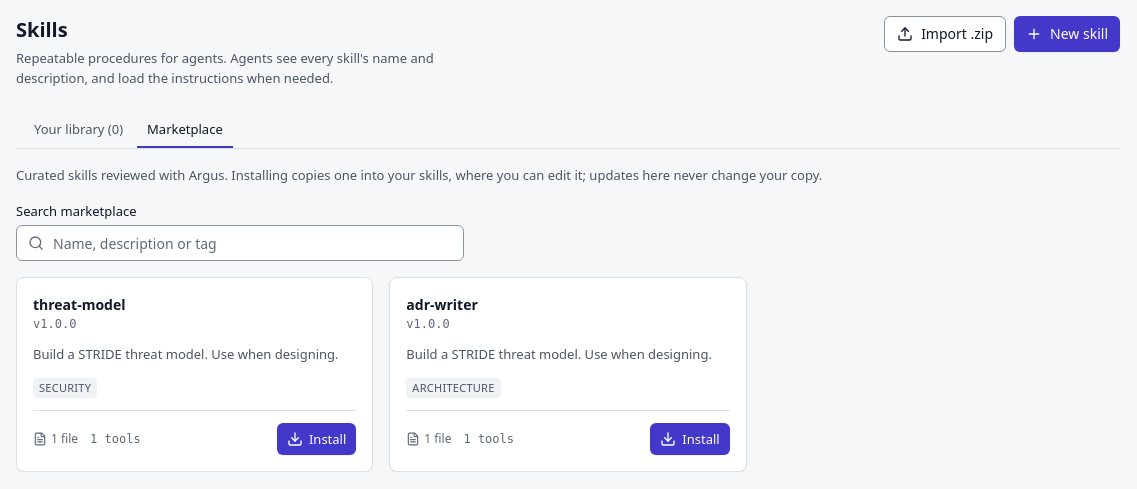
Test: Marketplace tab › filters the catalogue by tag
expect the element "adr-writer" is shown: met, box [389,277,747,472]
Type "architecture" into the search field labelled "Search marketplace". click: (240, 243)
box: [16,225,464,261]
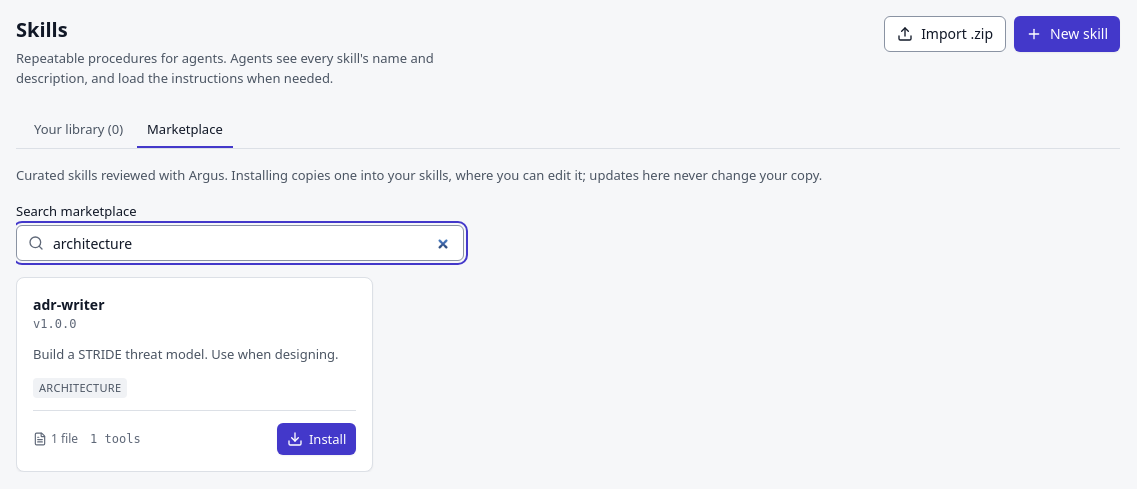
expect the heading "threat-model" is gone: met
